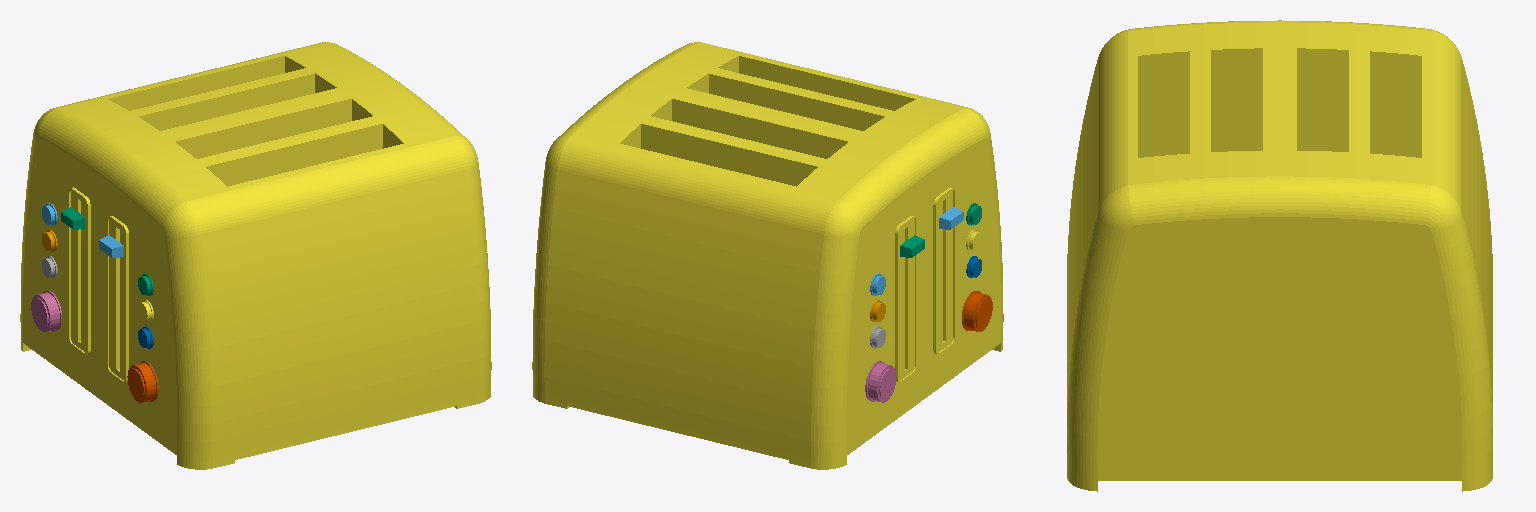
URDF robot description (partnet_f0153f5e-5158-4c8d-9faa-e5f95055bb3a):
<?xml version="1.0" ?>
<robot name="partnet_f0153f5e-5158-4c8d-9faa-e5f95055bb3a">
	<mujoco>
		<compiler meshdir="textured_objs" balanceinertia="true" discardvisual="false"/>
	</mujoco>
	<link name="base"/>
	<link name="link_0">
		<visual name="button-1">
			<origin xyz="0.3431235 -0.1369143015980616 0"/>
			<geometry>
				<mesh filename="textured_objs/original-29.obj"/>
			</geometry>
		</visual>
		<visual name="button-1">
			<origin xyz="0.3431235 -0.1369143015980616 0"/>
			<geometry>
				<mesh filename="textured_objs/original-28.obj"/>
			</geometry>
		</visual>
		<collision>
			<origin xyz="0.3431235 -0.1369143015980616 0"/>
			<geometry>
				<mesh filename="textured_objs/original-29.obj"/>
			</geometry>
		</collision>
		<collision>
			<origin xyz="0.3431235 -0.1369143015980616 0"/>
			<geometry>
				<mesh filename="textured_objs/original-28.obj"/>
			</geometry>
		</collision>
	</link>
	<joint name="joint_0" type="continuous">
		<origin xyz="-0.3431235 0.1369143015980616 0"/>
		<axis xyz="0 0 1"/>
		<child link="link_0"/>
		<parent link="link_10"/>
	</joint>
	<link name="link_1">
		<visual name="button-2">
			<origin xyz="-0.3686775 -0.1369145 0"/>
			<geometry>
				<mesh filename="textured_objs/original-24.obj"/>
			</geometry>
		</visual>
		<visual name="button-2">
			<origin xyz="-0.3686775 -0.1369145 0"/>
			<geometry>
				<mesh filename="textured_objs/original-25.obj"/>
			</geometry>
		</visual>
		<collision>
			<origin xyz="-0.3686775 -0.1369145 0"/>
			<geometry>
				<mesh filename="textured_objs/original-24.obj"/>
			</geometry>
		</collision>
		<collision>
			<origin xyz="-0.3686775 -0.1369145 0"/>
			<geometry>
				<mesh filename="textured_objs/original-25.obj"/>
			</geometry>
		</collision>
	</link>
	<joint name="joint_1" type="continuous">
		<origin xyz="0.3686775 0.1369145 0"/>
		<axis xyz="0 0 1"/>
		<child link="link_1"/>
		<parent link="link_10"/>
	</joint>
	<link name="link_2">
		<visual name="button-3">
			<origin xyz="-0.368677452095342 -0.029324547904658042 0"/>
			<geometry>
				<mesh filename="textured_objs/original-27.obj"/>
			</geometry>
		</visual>
		<visual name="button-3">
			<origin xyz="-0.368677452095342 -0.029324547904658042 0"/>
			<geometry>
				<mesh filename="textured_objs/original-30.obj"/>
			</geometry>
		</visual>
		<collision>
			<origin xyz="-0.368677452095342 -0.029324547904658042 0"/>
			<geometry>
				<mesh filename="textured_objs/original-27.obj"/>
			</geometry>
		</collision>
		<collision>
			<origin xyz="-0.368677452095342 -0.029324547904658042 0"/>
			<geometry>
				<mesh filename="textured_objs/original-30.obj"/>
			</geometry>
		</collision>
	</link>
	<joint name="joint_2" type="continuous">
		<origin xyz="0.368677452095342 0.029324547904658042 0"/>
		<axis xyz="0 0 1"/>
		<child link="link_2"/>
		<parent link="link_10"/>
	</joint>
	<link name="link_3">
		<visual name="button-4">
			<origin xyz="-0.3686772660990625 0.07826479658743052 0"/>
			<geometry>
				<mesh filename="textured_objs/original-36.obj"/>
			</geometry>
		</visual>
		<visual name="button-4">
			<origin xyz="-0.3686772660990625 0.07826479658743052 0"/>
			<geometry>
				<mesh filename="textured_objs/original-21.obj"/>
			</geometry>
		</visual>
		<collision>
			<origin xyz="-0.3686772660990625 0.07826479658743052 0"/>
			<geometry>
				<mesh filename="textured_objs/original-36.obj"/>
			</geometry>
		</collision>
		<collision>
			<origin xyz="-0.3686772660990625 0.07826479658743052 0"/>
			<geometry>
				<mesh filename="textured_objs/original-21.obj"/>
			</geometry>
		</collision>
	</link>
	<joint name="joint_3" type="continuous">
		<origin xyz="0.3686772660990625 -0.07826479658743052 0"/>
		<axis xyz="0 0 1"/>
		<child link="link_3"/>
		<parent link="link_10"/>
	</joint>
	<link name="link_4">
		<visual name="button-5">
			<origin xyz="-0.36867739409764394 0.25703460590235605 0"/>
			<geometry>
				<mesh filename="textured_objs/original-33.obj"/>
			</geometry>
		</visual>
		<visual name="button-5">
			<origin xyz="-0.36867739409764394 0.25703460590235605 0"/>
			<geometry>
				<mesh filename="textured_objs/original-26.obj"/>
			</geometry>
		</visual>
		<visual name="button-5">
			<origin xyz="-0.36867739409764394 0.25703460590235605 0"/>
			<geometry>
				<mesh filename="textured_objs/original-20.obj"/>
			</geometry>
		</visual>
		<collision>
			<origin xyz="-0.36867739409764394 0.25703460590235605 0"/>
			<geometry>
				<mesh filename="textured_objs/original-33.obj"/>
			</geometry>
		</collision>
		<collision>
			<origin xyz="-0.36867739409764394 0.25703460590235605 0"/>
			<geometry>
				<mesh filename="textured_objs/original-26.obj"/>
			</geometry>
		</collision>
		<collision>
			<origin xyz="-0.36867739409764394 0.25703460590235605 0"/>
			<geometry>
				<mesh filename="textured_objs/original-20.obj"/>
			</geometry>
		</collision>
	</link>
	<joint name="joint_4" type="continuous">
		<origin xyz="0.36867739409764394 -0.25703460590235605 0"/>
		<axis xyz="0 0 1"/>
		<child link="link_4"/>
		<parent link="link_10"/>
	</joint>
	<link name="link_5">
		<visual name="button-6">
			<origin xyz="0.3431235 0.2570346986183074 0"/>
			<geometry>
				<mesh filename="textured_objs/original-23.obj"/>
			</geometry>
		</visual>
		<visual name="button-6">
			<origin xyz="0.3431235 0.2570346986183074 0"/>
			<geometry>
				<mesh filename="textured_objs/original-19.obj"/>
			</geometry>
		</visual>
		<visual name="button-6">
			<origin xyz="0.3431235 0.2570346986183074 0"/>
			<geometry>
				<mesh filename="textured_objs/original-22.obj"/>
			</geometry>
		</visual>
		<collision>
			<origin xyz="0.3431235 0.2570346986183074 0"/>
			<geometry>
				<mesh filename="textured_objs/original-23.obj"/>
			</geometry>
		</collision>
		<collision>
			<origin xyz="0.3431235 0.2570346986183074 0"/>
			<geometry>
				<mesh filename="textured_objs/original-19.obj"/>
			</geometry>
		</collision>
		<collision>
			<origin xyz="0.3431235 0.2570346986183074 0"/>
			<geometry>
				<mesh filename="textured_objs/original-22.obj"/>
			</geometry>
		</collision>
	</link>
	<joint name="joint_5" type="continuous">
		<origin xyz="-0.3431235 -0.2570346986183074 0"/>
		<axis xyz="0 0 1"/>
		<child link="link_5"/>
		<parent link="link_10"/>
	</joint>
	<link name="link_6">
		<visual name="button-7">
			<origin xyz="0.34312349999999997 0.07826491764520448 0"/>
			<geometry>
				<mesh filename="textured_objs/original-35.obj"/>
			</geometry>
		</visual>
		<visual name="button-7">
			<origin xyz="0.34312349999999997 0.07826491764520448 0"/>
			<geometry>
				<mesh filename="textured_objs/original-34.obj"/>
			</geometry>
		</visual>
		<collision>
			<origin xyz="0.34312349999999997 0.07826491764520448 0"/>
			<geometry>
				<mesh filename="textured_objs/original-35.obj"/>
			</geometry>
		</collision>
		<collision>
			<origin xyz="0.34312349999999997 0.07826491764520448 0"/>
			<geometry>
				<mesh filename="textured_objs/original-34.obj"/>
			</geometry>
		</collision>
	</link>
	<joint name="joint_6" type="continuous">
		<origin xyz="-0.34312349999999997 -0.07826491764520448 0"/>
		<axis xyz="0 0 1"/>
		<child link="link_6"/>
		<parent link="link_10"/>
	</joint>
	<link name="link_7">
		<visual name="button-8">
			<origin xyz="0.3431235 -0.029324822760736193 0"/>
			<geometry>
				<mesh filename="textured_objs/original-32.obj"/>
			</geometry>
		</visual>
		<visual name="button-8">
			<origin xyz="0.3431235 -0.029324822760736193 0"/>
			<geometry>
				<mesh filename="textured_objs/original-31.obj"/>
			</geometry>
		</visual>
		<collision>
			<origin xyz="0.3431235 -0.029324822760736193 0"/>
			<geometry>
				<mesh filename="textured_objs/original-32.obj"/>
			</geometry>
		</collision>
		<collision>
			<origin xyz="0.3431235 -0.029324822760736193 0"/>
			<geometry>
				<mesh filename="textured_objs/original-31.obj"/>
			</geometry>
		</collision>
	</link>
	<joint name="joint_7" type="continuous">
		<origin xyz="-0.3431235 0.029324822760736193 0"/>
		<axis xyz="0 0 1"/>
		<child link="link_7"/>
		<parent link="link_10"/>
	</joint>
	<link name="link_8">
		<visual name="slider-9">
			<origin xyz="0 0 0"/>
			<geometry>
				<mesh filename="textured_objs/original-41.obj"/>
			</geometry>
		</visual>
		<visual name="slider-9">
			<origin xyz="0 0 0"/>
			<geometry>
				<mesh filename="textured_objs/original-42.obj"/>
			</geometry>
		</visual>
		<visual name="slider-9">
			<origin xyz="0 0 0"/>
			<geometry>
				<mesh filename="textured_objs/original-40.obj"/>
			</geometry>
		</visual>
		<!-- <collision>
			<origin xyz="0 0 0"/>
			<geometry>
				<mesh filename="textured_objs/original-41.obj"/>
			</geometry>
		</collision> -->
		<!-- <collision>
			<origin xyz="0 0 0"/>
			<geometry>
				<mesh filename="textured_objs/original-42.obj"/>
			</geometry>
		</collision> -->
		<collision>
			<origin xyz="0 0 0"/>
			<geometry>
				<mesh filename="textured_objs/original-40.obj"/>
			</geometry>
		</collision>
	</link>
	<joint name="joint_8" type="prismatic">
		<origin xyz="0 0 0"/>
		<axis xyz="0 -1 0"/>
		<child link="link_8"/>
		<parent link="link_10"/>
		<limit lower="-0.056" upper="0.492"/>
	</joint>
	<link name="link_9">
		<visual name="slider-10">
			<origin xyz="0 0 0"/>
			<geometry>
				<mesh filename="textured_objs/original-38.obj"/>
			</geometry>
		</visual>
		<visual name="slider-10">
			<origin xyz="0 0 0"/>
			<geometry>
				<mesh filename="textured_objs/original-39.obj"/>
			</geometry>
		</visual>
		<visual name="slider-10">
			<origin xyz="0 0 0"/>
			<geometry>
				<mesh filename="textured_objs/original-43.obj"/>
			</geometry>
		</visual>
		<collision>
			<origin xyz="0 0 0"/>
			<geometry>
				<mesh filename="textured_objs/original-38.obj"/>
			</geometry>
		</collision>
		<!-- <collision>
			<origin xyz="0 0 0"/>
			<geometry>
				<mesh filename="textured_objs/original-39.obj"/>
			</geometry>
		</collision> -->
		<!-- <collision>
			<origin xyz="0 0 0"/>
			<geometry>
				<mesh filename="textured_objs/original-43.obj"/>
			</geometry>
		</collision> -->
	</link>
	<joint name="joint_9" type="prismatic">
		<origin xyz="0 0 0"/>
		<axis xyz="0 -1 0"/>
		<child link="link_9"/>
		<parent link="link_10"/>
		<limit lower="-0.056" upper="0.492"/>
	</joint>
	<link name="link_10">
		<visual name="base_body-11">
			<origin xyz="0 0 0"/>
			<geometry>
				<mesh filename="textured_objs/original-4.obj"/>
			</geometry>
		</visual>
		<visual name="base_body-11">
			<origin xyz="0 0 0"/>
			<geometry>
				<mesh filename="textured_objs/original-3.obj"/>
			</geometry>
		</visual>
		<visual name="base_body-11">
			<origin xyz="0 0 0"/>
			<geometry>
				<mesh filename="textured_objs/original-2.obj"/>
			</geometry>
		</visual>
		<visual name="base_body-11">
			<origin xyz="0 0 0"/>
			<geometry>
				<mesh filename="textured_objs/original-16.obj"/>
			</geometry>
		</visual>
		<visual name="base_body-11">
			<origin xyz="0 0 0"/>
			<geometry>
				<mesh filename="textured_objs/original-8.obj"/>
			</geometry>
		</visual>
		<visual name="base_body-11">
			<origin xyz="0 0 0"/>
			<geometry>
				<mesh filename="textured_objs/original-13.obj"/>
			</geometry>
		</visual>
		<visual name="base_body-11">
			<origin xyz="0 0 0"/>
			<geometry>
				<mesh filename="textured_objs/original-9.obj"/>
			</geometry>
		</visual>
		<visual name="base_body-11">
			<origin xyz="0 0 0"/>
			<geometry>
				<mesh filename="textured_objs/original-5.obj"/>
			</geometry>
		</visual>
		<visual name="base_body-11">
			<origin xyz="0 0 0"/>
			<geometry>
				<mesh filename="textured_objs/original-6.obj"/>
			</geometry>
		</visual>
		<visual name="base_body-11">
			<origin xyz="0 0 0"/>
			<geometry>
				<mesh filename="textured_objs/original-37.obj"/>
			</geometry>
		</visual>
		<visual name="base_body-11">
			<origin xyz="0 0 0"/>
			<geometry>
				<mesh filename="textured_objs/original-15.obj"/>
			</geometry>
		</visual>
		<visual name="base_body-11">
			<origin xyz="0 0 0"/>
			<geometry>
				<mesh filename="textured_objs/original-11.obj"/>
			</geometry>
		</visual>
		<visual name="base_body-11">
			<origin xyz="0 0 0"/>
			<geometry>
				<mesh filename="textured_objs/original-18.obj"/>
			</geometry>
		</visual>
		<visual name="base_body-11">
			<origin xyz="0 0 0"/>
			<geometry>
				<mesh filename="textured_objs/original-17.obj"/>
			</geometry>
		</visual>
		<visual name="base_body-11">
			<origin xyz="0 0 0"/>
			<geometry>
				<mesh filename="textured_objs/original-12.obj"/>
			</geometry>
		</visual>
		<visual name="base_body-11">
			<origin xyz="0 0 0"/>
			<geometry>
				<mesh filename="textured_objs/original-7.obj"/>
			</geometry>
		</visual>
		<visual name="base_body-11">
			<origin xyz="0 0 0"/>
			<geometry>
				<mesh filename="textured_objs/original-1.obj"/>
			</geometry>
		</visual>
		<visual name="base_body-11">
			<origin xyz="0 0 0"/>
			<geometry>
				<mesh filename="textured_objs/original-10.obj"/>
			</geometry>
		</visual>
		<visual name="base_body-11">
			<origin xyz="0 0 0"/>
			<geometry>
				<mesh filename="textured_objs/original-14.obj"/>
			</geometry>
		</visual>
		<collision>
			<origin xyz="0 0 0"/>
			<geometry>
				<mesh filename="textured_objs/original-4.obj"/>
			</geometry>
		</collision>
		<!-- <collision>
			<origin xyz="0 0 0"/>
			<geometry>
				<mesh filename="textured_objs/original-3.obj"/>
			</geometry>
		</collision> -->
		<collision>
			<origin xyz="0 0 0"/>
			<geometry>
				<mesh filename="textured_objs/original-2.obj"/>
			</geometry>
		</collision>
		<collision>
			<origin xyz="0 0 0"/>
			<geometry>
				<mesh filename="textured_objs/original-16.obj"/>
			</geometry>
		</collision>
		<collision>
			<origin xyz="0 0 0"/>
			<geometry>
				<mesh filename="textured_objs/original-8.obj"/>
			</geometry>
		</collision>
		<collision>
			<origin xyz="0 0 0"/>
			<geometry>
				<mesh filename="textured_objs/original-13.obj"/>
			</geometry>
		</collision>
		<collision>
			<origin xyz="0 0 0"/>
			<geometry>
				<mesh filename="textured_objs/original-9.obj"/>
			</geometry>
		</collision>
		<collision>
			<origin xyz="0 0 0"/>
			<geometry>
				<mesh filename="textured_objs/original-5.obj"/>
			</geometry>
		</collision>
		<collision>
			<origin xyz="0 0 0"/>
			<geometry>
				<mesh filename="textured_objs/original-6.obj"/>
			</geometry>
		</collision>
		<!-- <collision>
			<origin xyz="0 0 0"/>
			<geometry>
				<mesh filename="textured_objs/original-37.obj"/>
			</geometry>
		</collision> -->
		<collision>
			<origin xyz="0 0 0"/>
			<geometry>
				<mesh filename="textured_objs/original-15.obj"/>
			</geometry>
		</collision>
		<collision>
			<origin xyz="0 0 0"/>
			<geometry>
				<mesh filename="textured_objs/original-11.obj"/>
			</geometry>
		</collision>
		<!-- <collision>
			<origin xyz="0 0 0"/>
			<geometry>
				<mesh filename="textured_objs/original-18.obj"/>
			</geometry>
		</collision> -->
		<!-- <collision>
			<origin xyz="0 0 0"/>
			<geometry>
				<mesh filename="textured_objs/original-17.obj"/>
			</geometry>
		</collision> -->
		<collision>
			<origin xyz="0 0 0"/>
			<geometry>
				<mesh filename="textured_objs/original-12.obj"/>
			</geometry>
		</collision>
		<collision>
			<origin xyz="0 0 0"/>
			<geometry>
				<mesh filename="textured_objs/original-7.obj"/>
			</geometry>
		</collision>
		<collision>
			<origin xyz="0 0 0"/>
			<geometry>
				<mesh filename="textured_objs/original-1.obj"/>
			</geometry>
		</collision>
		<collision>
			<origin xyz="0 0 0"/>
			<geometry>
				<mesh filename="textured_objs/original-10.obj"/>
			</geometry>
		</collision>
		<collision>
			<origin xyz="0 0 0"/>
			<geometry>
				<mesh filename="textured_objs/original-14.obj"/>
			</geometry>
		</collision>
	</link>
	<joint name="joint_10" type="fixed">
		<origin rpy="1.570796326794897 0 -1.570796326794897" xyz="0 0 0"/>
		<child link="link_10"/>
		<parent link="base"/>
	</joint>
</robot>

--- What the picture shows (computed from the rendered views, not written in the file) ---
The picture shows the robot from 3 angles, left to right: view 1: azimuth 30°, elevation 25°; view 2: azimuth 150°, elevation 25°; view 3: azimuth 270°, elevation 25°; orthographic projection.
Model partnet_f0153f5e-5158-4c8d-9faa-e5f95055bb3a with 12 links and 11 joints (8 continuous, 2 prismatic, 1 fixed), rooted at base, posed all joints at 0.
Links seen in each view (by area): view 1: link_10, link_4, link_5; view 2: link_10, link_5, link_4; view 3: link_10.
Link boxes in pixels (<box>): link_10: <box>20,42,491,469</box>; link_4: <box>127,361,158,402</box>; link_5: <box>31,291,61,331</box>; link_10: <box>532,42,1003,469</box>; link_5: <box>865,361,896,402</box>; link_4: <box>962,291,992,331</box>; link_10: <box>1067,20,1492,491</box>.
Bounding box of the posed robot: 1.39 × 1.33 × 1.04 m (x, y, z).
Meshes: 43 distinct files referenced, 43 mesh visuals loaded (43 OBJ).
